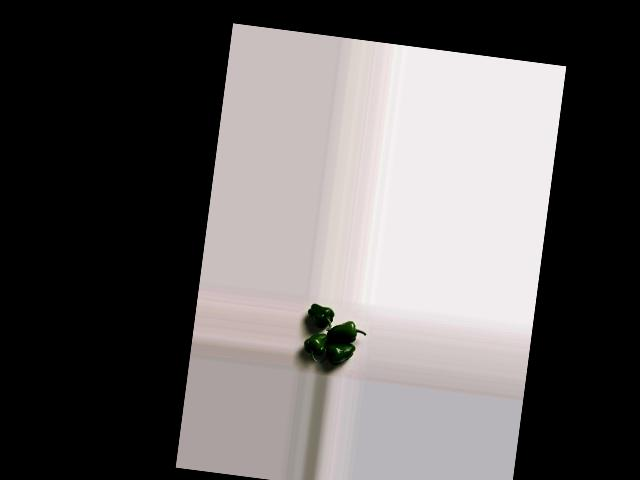bell_pepper: (302, 329, 326, 361)
